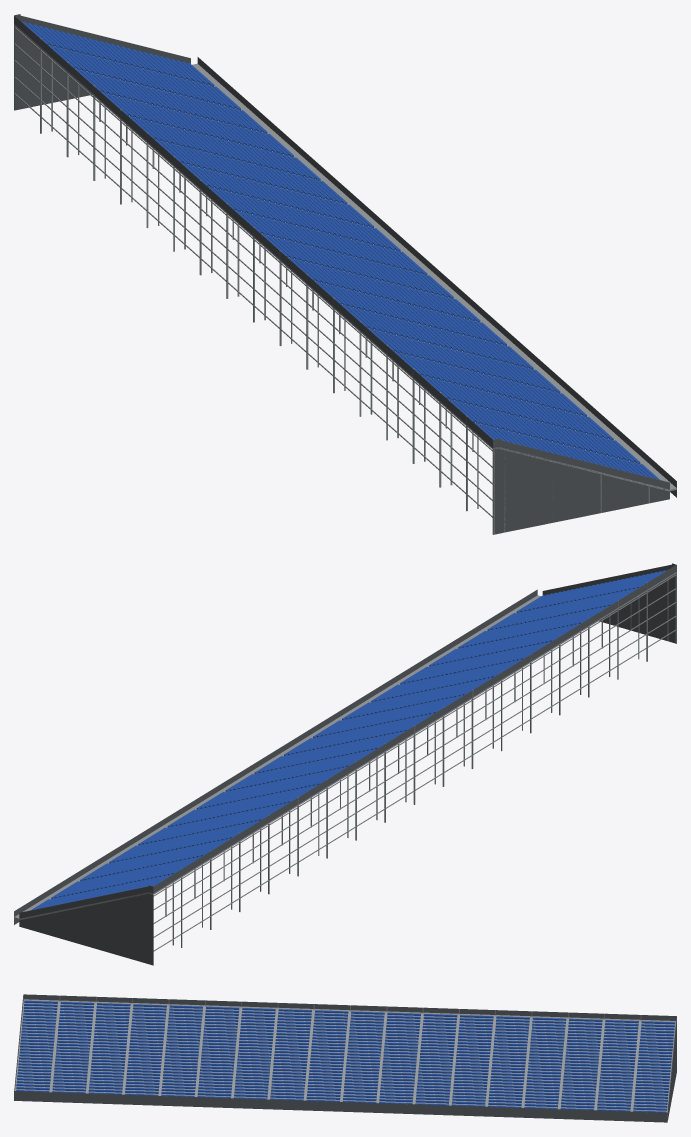
Rendered from mza_stand_prima_variante.glb.
3 renders of one model, top to bottom at view 1: azimuth 30°, elevation 25°; view 2: azimuth 150°, elevation 25°; view 3: azimuth 270°, elevation 25°, orthographic. The views are drawn at different scales.
Parts seen in each view (by area): view 1: monza-prima-variante; view 2: monza-prima-variante; view 3: monza-prima-variante.
Boxes of the visible parts, x1=… form: monza-prima-variante: x1=14, y1=14, x2=676, y2=534; monza-prima-variante: x1=14, y1=563, x2=676, y2=965; monza-prima-variante: x1=14, y1=994, x2=676, y2=1122.
Bounding box in the file's own units: 38.11 × 13.76 × 148.
